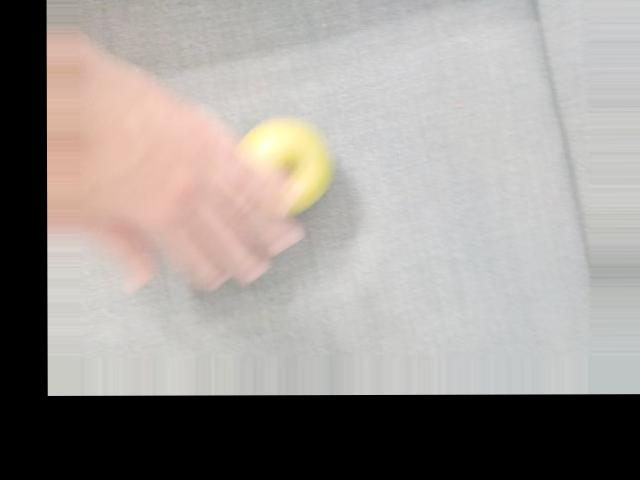apple: (226, 121, 345, 223)
